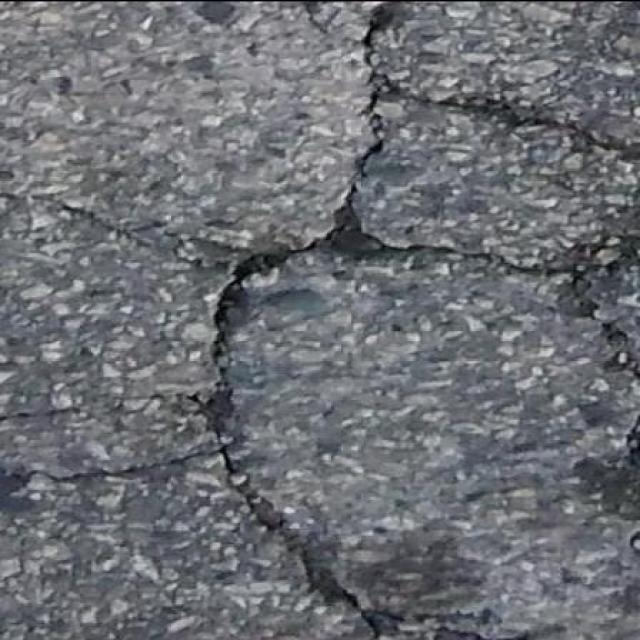Crack: (61, 0, 640, 640), (55, 451, 207, 478), (296, 0, 317, 29), (628, 406, 639, 459), (629, 521, 639, 559), (0, 411, 32, 418), (0, 191, 21, 198)
